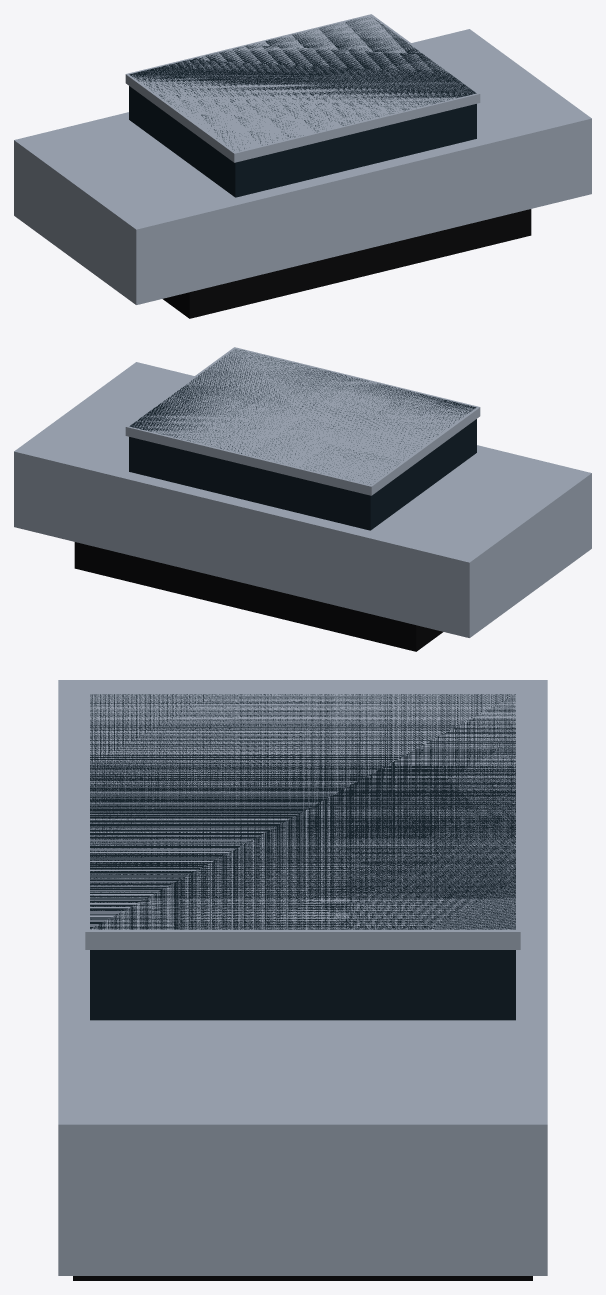
File: sedan.lod2.obj
3 renders of one model, top to bottom at view 1: azimuth 30°, elevation 25°; view 2: azimuth 150°, elevation 25°; view 3: azimuth 270°, elevation 25°, orthographic. The views are drawn at different scales.
Parts seen in each view (by area): view 1: sedan; view 2: sedan; view 3: sedan.
Part boxes in pixels (box(x1,y1,x2,y2)): sedan: box(14, 14, 591, 318); sedan: box(14, 347, 591, 651); sedan: box(58, 680, 547, 1280).
Size of the model in its own units: 4.62 by 1.47 by 2.15.
